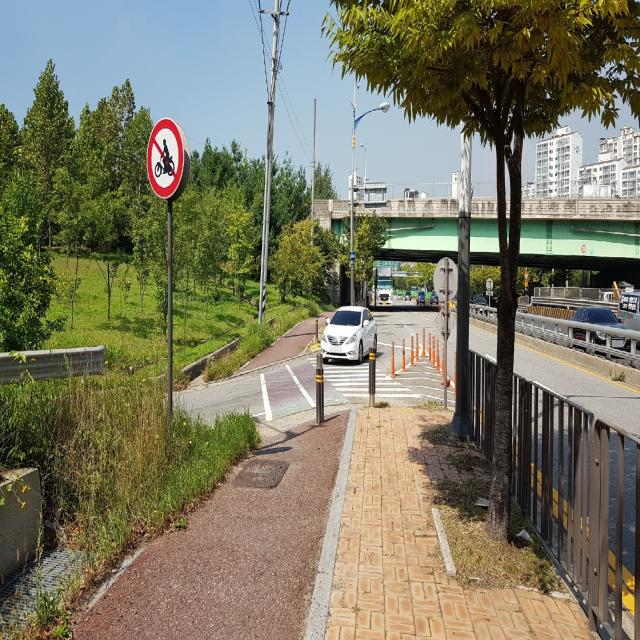횡단보도: (306, 356, 422, 399)
